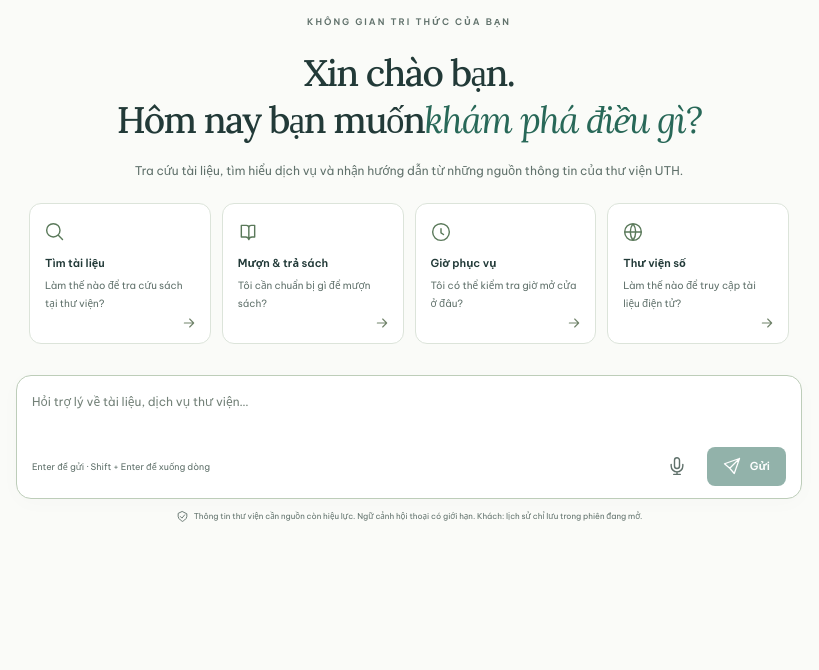
Test: reader workflows › renders grounded answer and safe sources, sends conversation ID
This screenshot has width=819, height=670.
Step 1. Type "Tìm tài liệu" into the text box named "Câu hỏi của bạn" → point(409, 413), box [32,389,786,436]
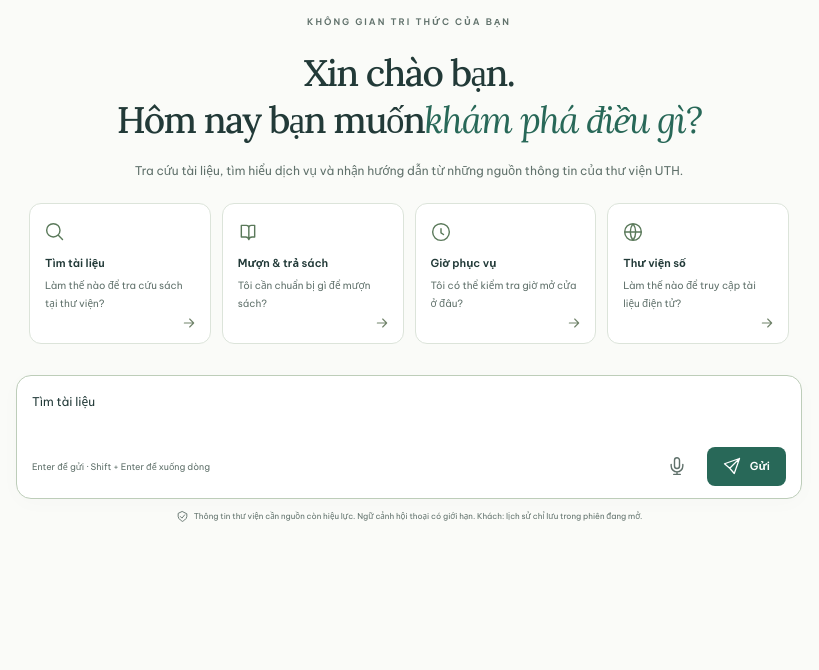
Step 2. Submit the form named "Gửi câu hỏi", box [16,375,802,499]
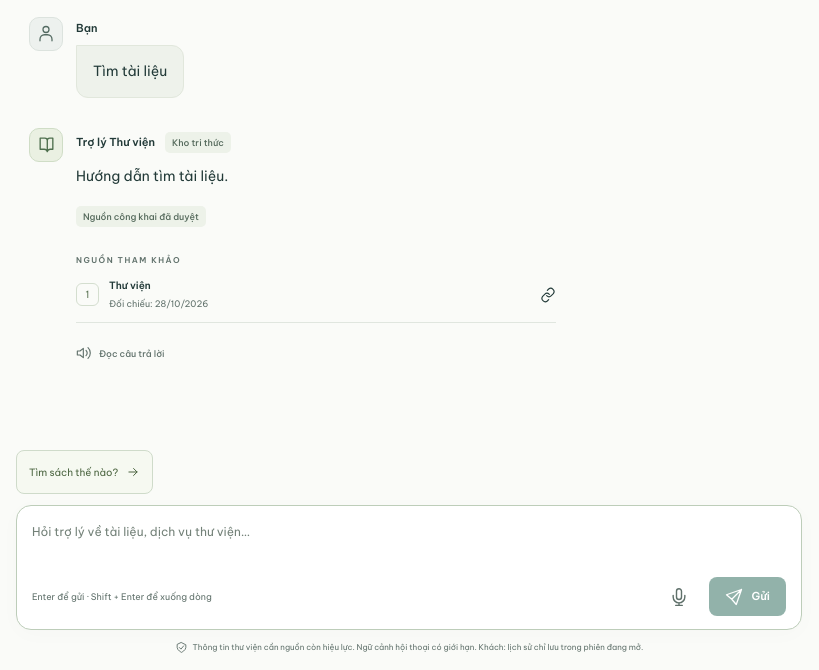
Expected: the text "Hướng dẫn tìm tài liệu." is shown, [76,167,228,185]
